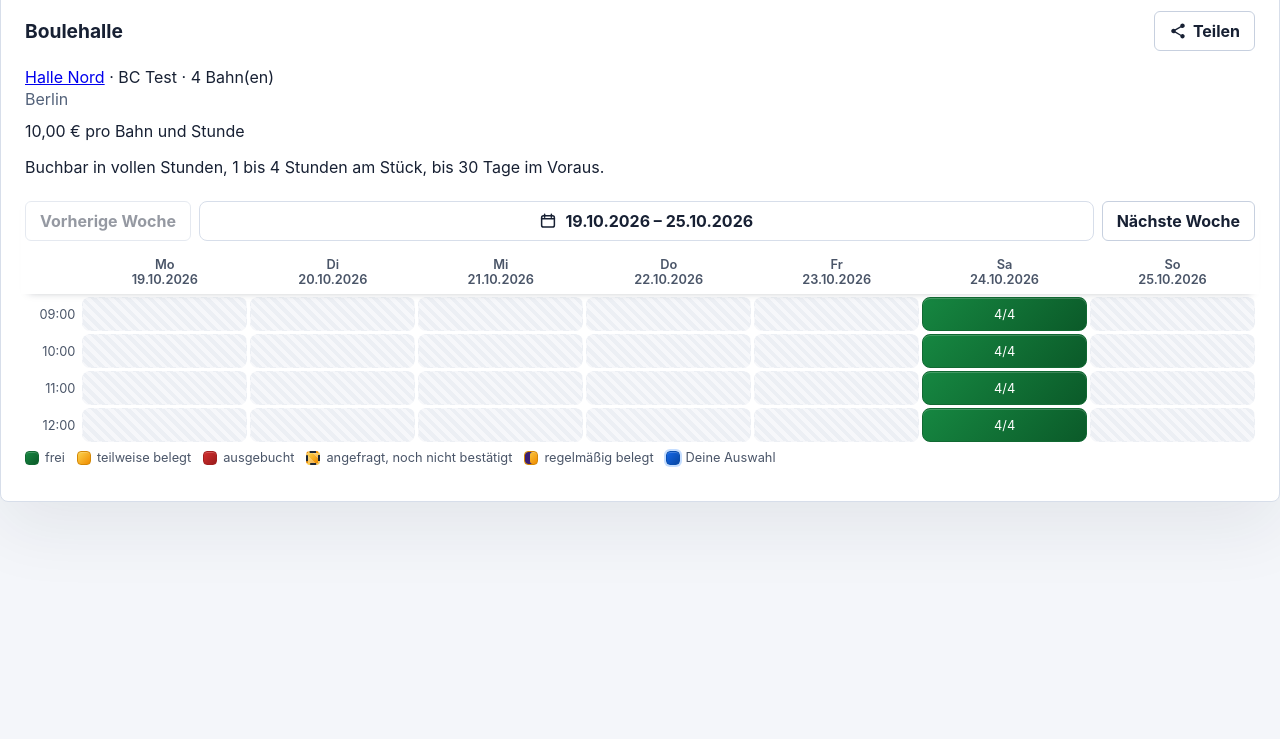
Scenario: Platz mieten: Angebot und Kalender › bietet im Dauer-Popup „Ganzer Tag“ für die komplette Öffnungszeit an, wenn sie durchgehend frei ist
// Auch von einer späteren Startstunde aus bucht „Ganzer Tag“ ab Öffnung bis Schluss.
Step 1. Click the button named "11:00: 4 von 4 Bahnen frei" → (1005, 388), box [922,371,1087,405]
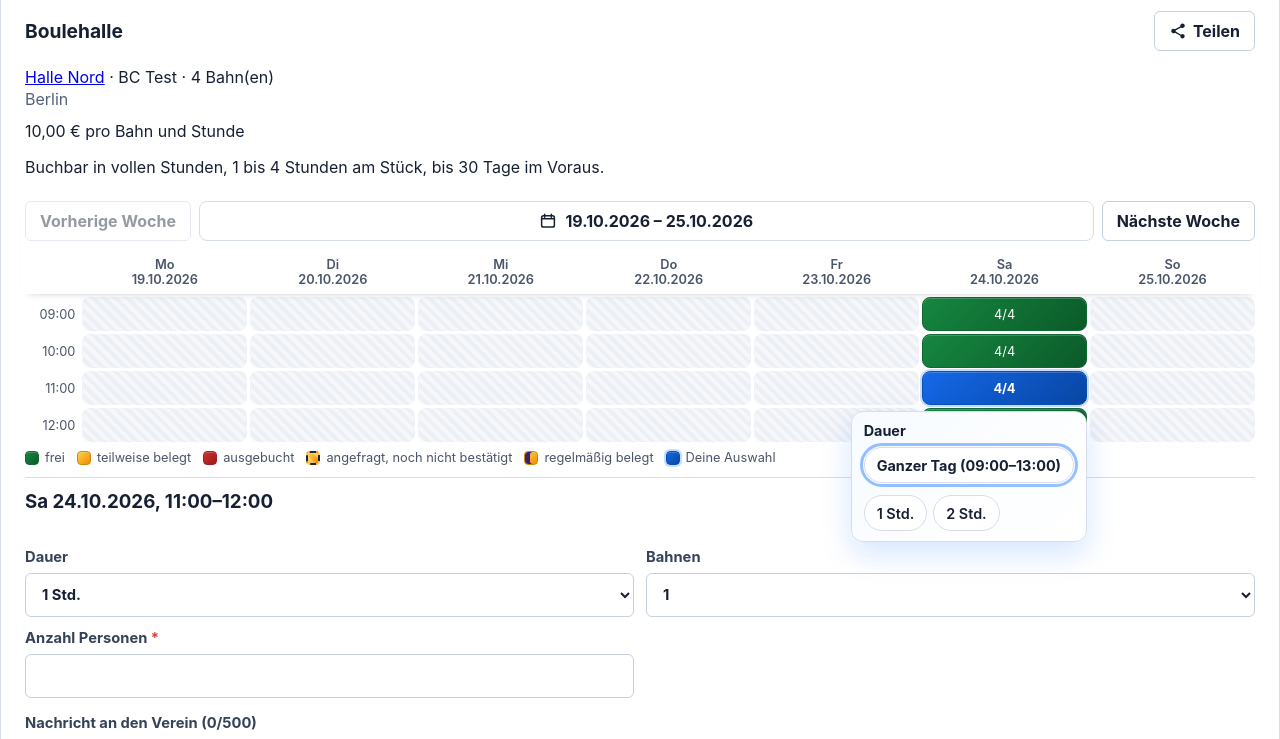
Step 2. Click the button "Ganzer Tag (09:00–13:00)" → (969, 465), box [864,447,1074,483]
(page scrolled)
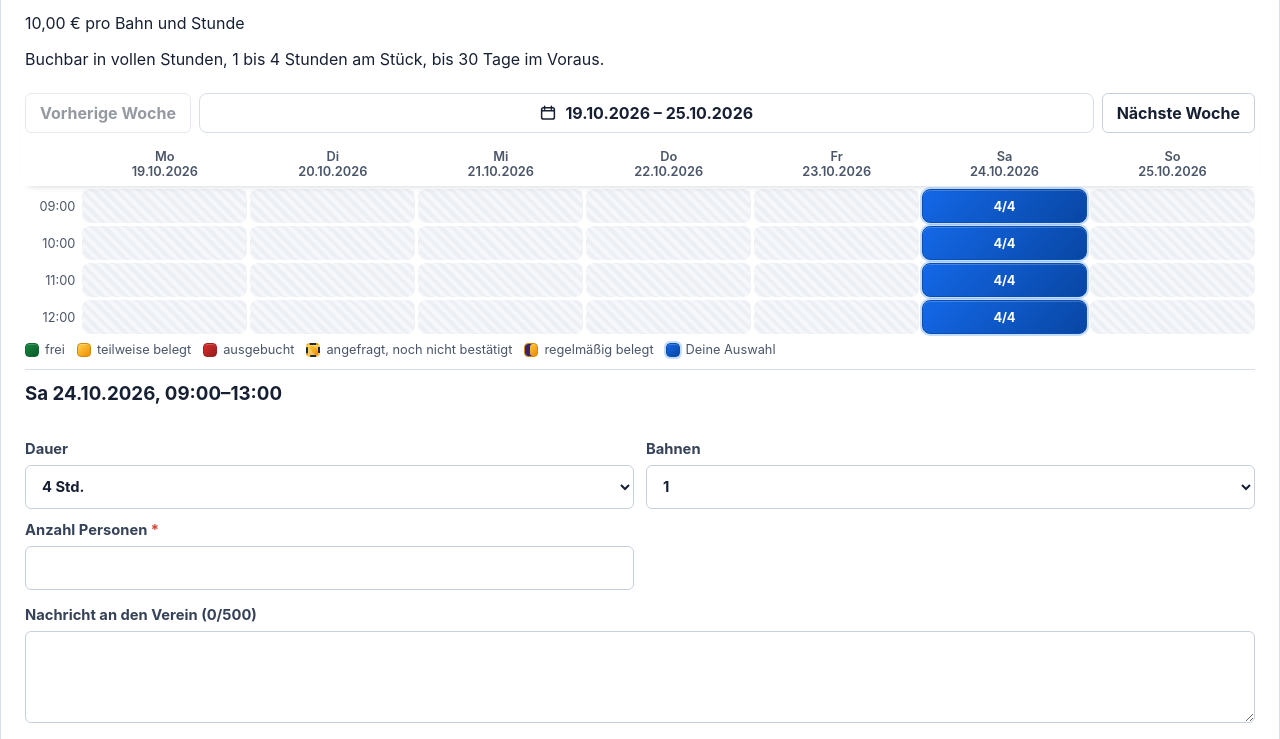
expect the heading "Sa 24.10.2026, 09:00–13:00" is shown: met, box [25,382,282,405]
expect the dropdown labelled "Dauer" shows "4 Std.": met, box [25,465,634,509]
